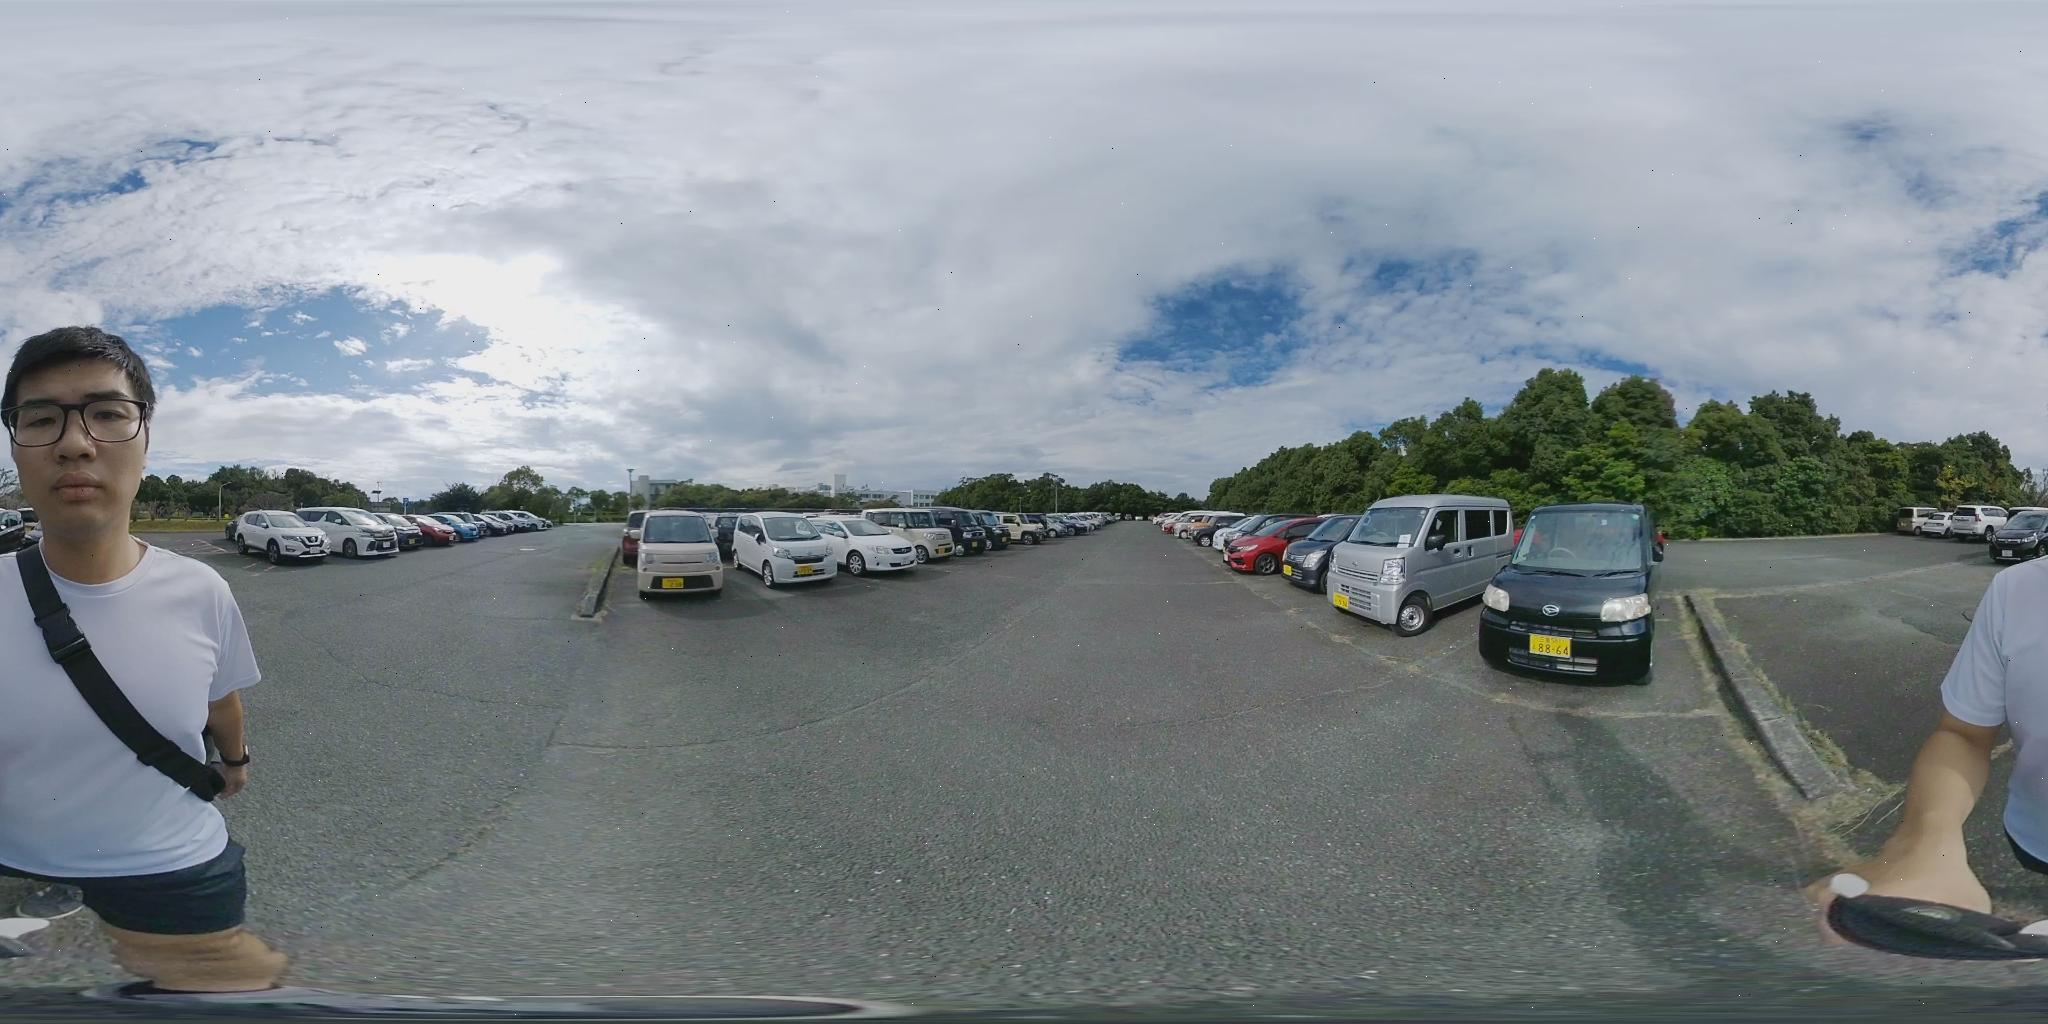car: (1477, 507, 1659, 686), (1327, 498, 1515, 627), (637, 511, 909, 589), (742, 516, 929, 580), (626, 511, 738, 600), (235, 508, 417, 562), (734, 516, 844, 589), (1220, 516, 1337, 576), (865, 505, 1003, 555), (853, 512, 956, 567), (1277, 515, 1348, 586), (235, 512, 329, 559), (432, 511, 539, 539), (1983, 516, 2048, 563), (951, 512, 1016, 552), (387, 509, 452, 549), (1000, 511, 1084, 541), (1915, 509, 1997, 539), (1177, 515, 1249, 547), (370, 515, 432, 550), (1941, 503, 2008, 536), (1984, 505, 2047, 539), (1209, 516, 1271, 550), (1156, 509, 1238, 534), (411, 519, 479, 543), (990, 516, 1042, 546), (400, 515, 456, 539), (440, 516, 490, 542), (1041, 516, 1093, 541), (1008, 516, 1055, 543), (492, 509, 550, 532), (475, 515, 529, 538), (1908, 508, 1954, 536), (1059, 515, 1105, 536), (1161, 516, 1194, 538)
